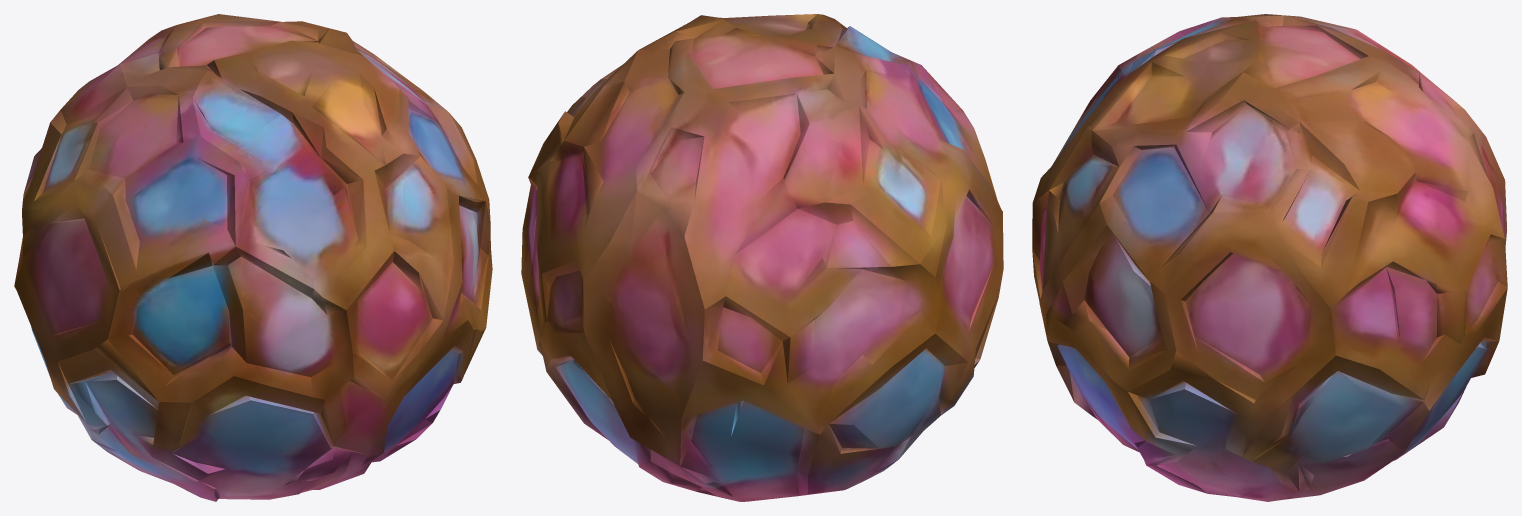
File: m2EnergyOrb.glb
3 renders of one model, left to right at view 1: azimuth 30°, elevation 25°; view 2: azimuth 150°, elevation 25°; view 3: azimuth 270°, elevation 25°, orthographic.
Visible parts, largest first — view 1: model; view 2: model; view 3: model.
Boxes of the visible parts, bbox=[...] form: model: bbox=[14, 14, 492, 501]; model: bbox=[521, 14, 1003, 501]; model: bbox=[1032, 14, 1507, 501].
Bounding box in the file's own units: 1.87 × 1.89 × 1.87.
1 material, 1 textured.
